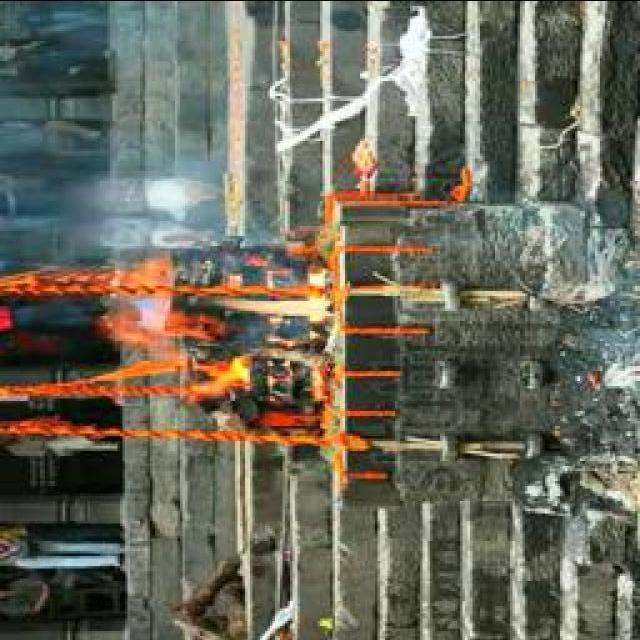Fire: (104, 289, 332, 399)
